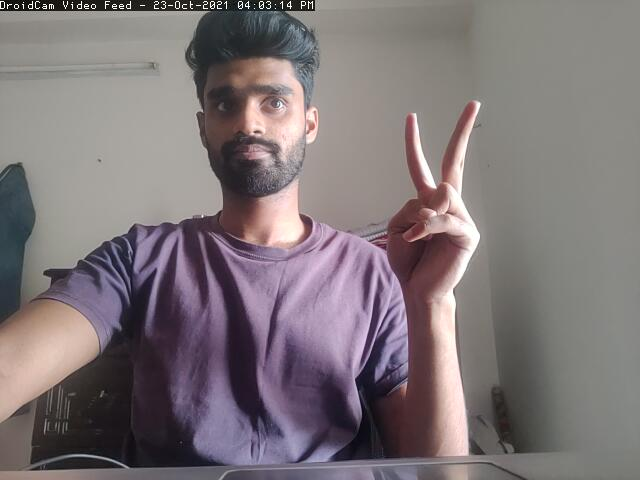Victory: (378, 94, 485, 299)
